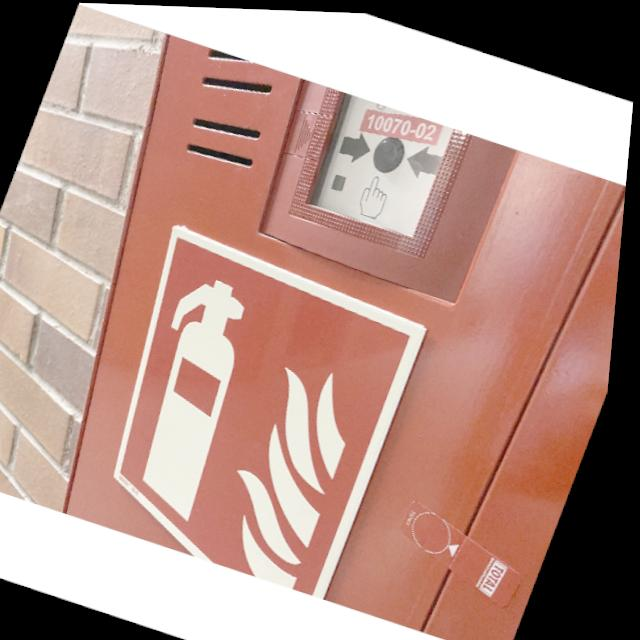fire extinguisher: (67, 220, 443, 599)
